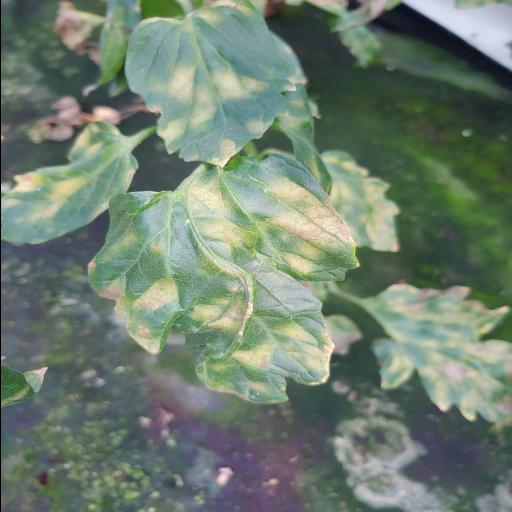Leaf Mold: (84, 150, 358, 404), (122, 0, 306, 168), (364, 282, 512, 424), (0, 120, 138, 244)
